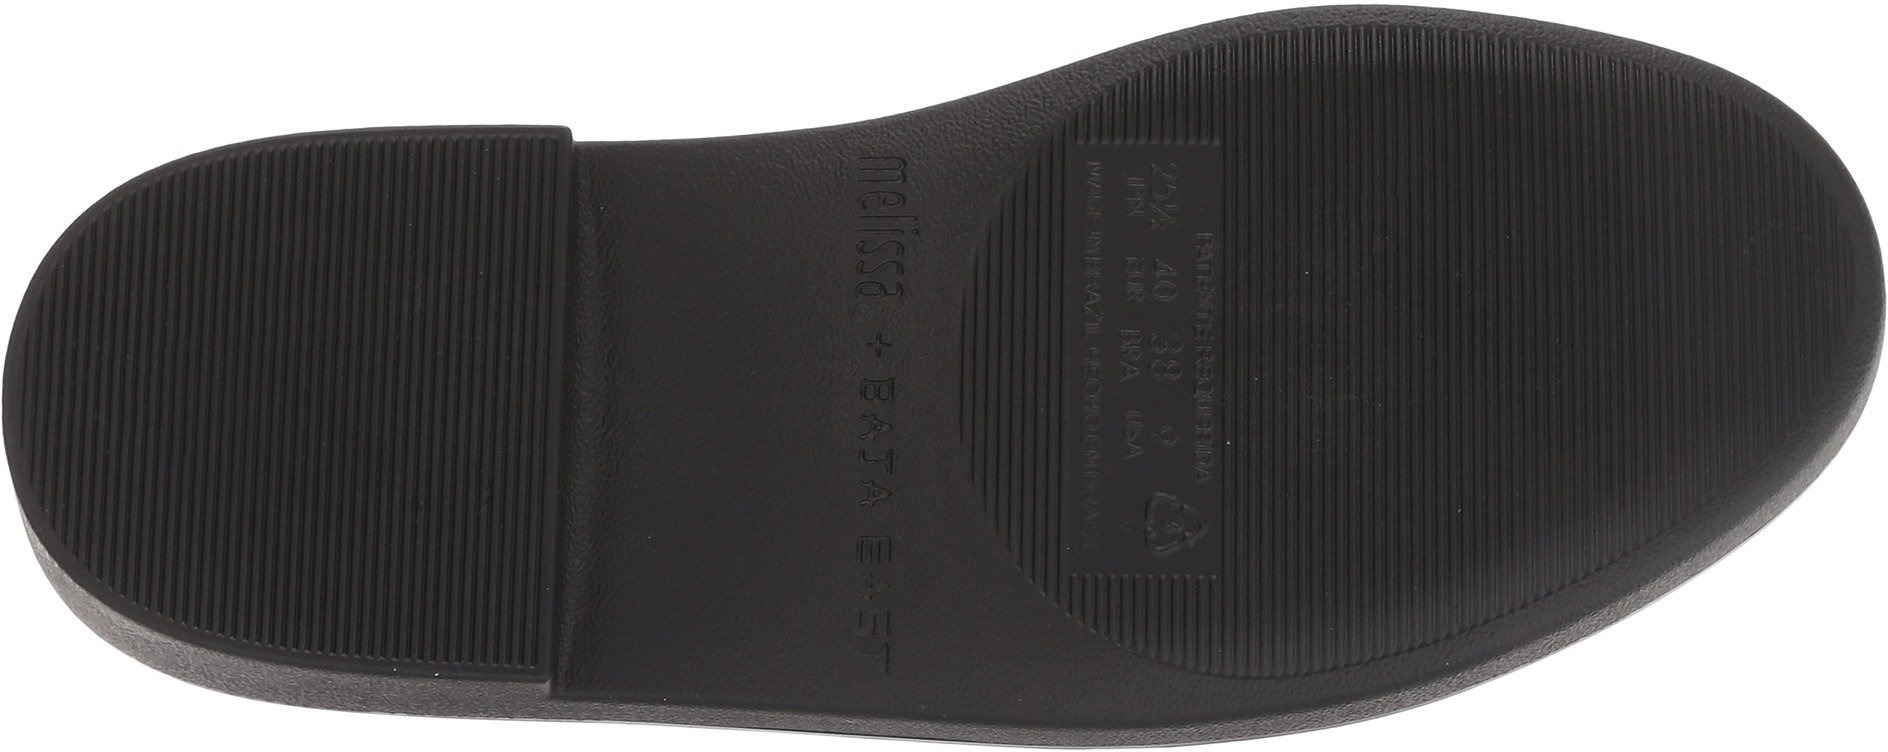exclude: (554, 31, 840, 738)
other: (1216, 69, 1526, 372), (1532, 153, 1816, 438), (1235, 378, 1503, 629), (287, 154, 523, 426), (47, 280, 290, 537), (297, 433, 529, 638), (1512, 448, 1624, 558), (170, 168, 278, 273)
text: (1061, 144, 1220, 313), (1068, 322, 1216, 479), (827, 389, 945, 488), (830, 267, 936, 378), (809, 496, 924, 587), (840, 162, 939, 255), (843, 604, 909, 680)
